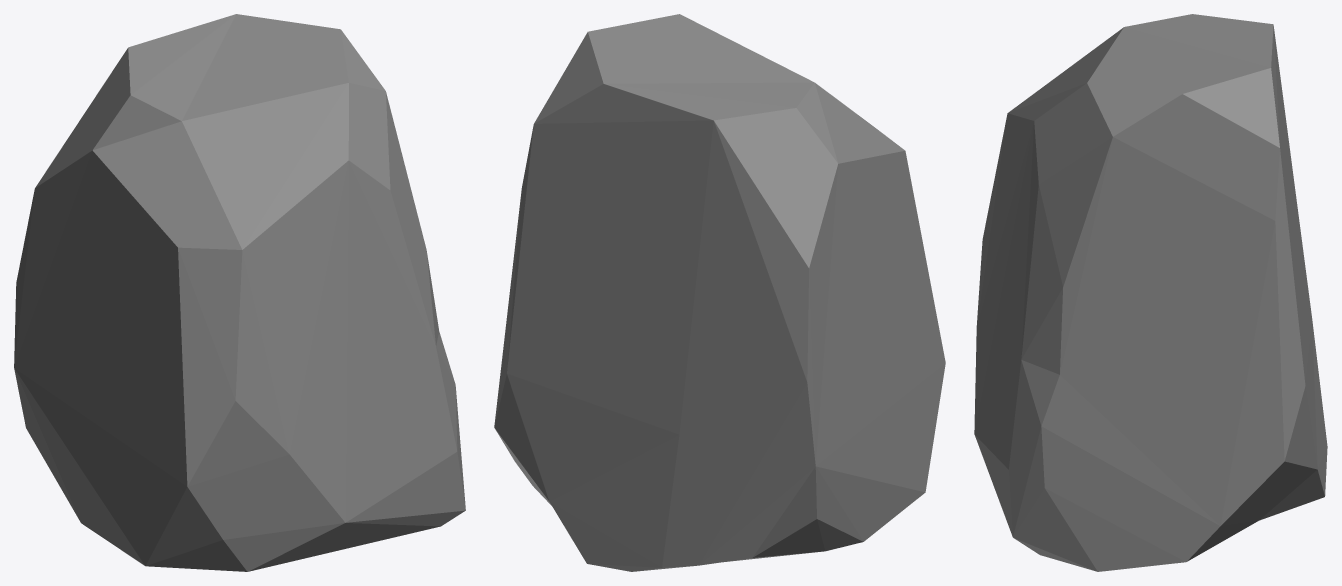
File: Stone_4.fbx
3 renders of one model, left to right at view 1: azimuth 30°, elevation 25°; view 2: azimuth 150°, elevation 25°; view 3: azimuth 270°, elevation 25°, orthographic. The views are drawn at different scales.
Parts seen in each view (by area): view 1: Stone_4; view 2: Stone_4; view 3: Stone_4.
Part boxes in pixels (left/top/right/bottom): Stone_4: left=14, top=14, right=465, bottom=571; Stone_4: left=494, top=14, right=945, bottom=571; Stone_4: left=974, top=14, right=1327, bottom=571.
Size of the model in its own units: 0.879 by 0.8348 by 1.18.
